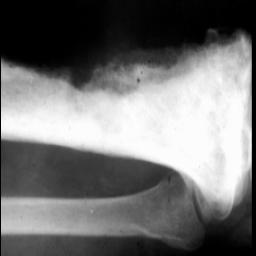cancer: (0, 31, 250, 217)
